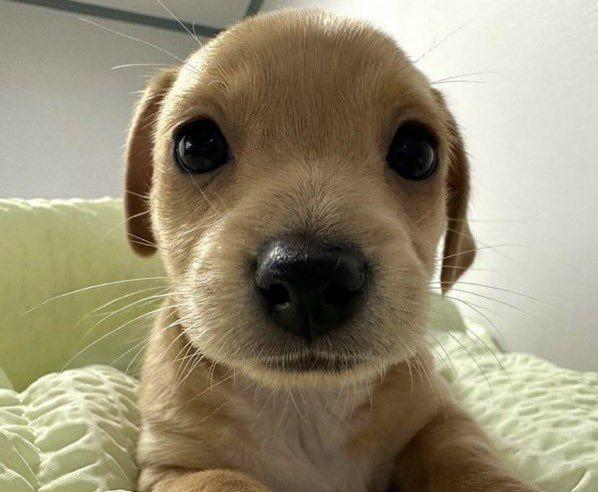puppy-dog: (123, 9, 555, 492)
